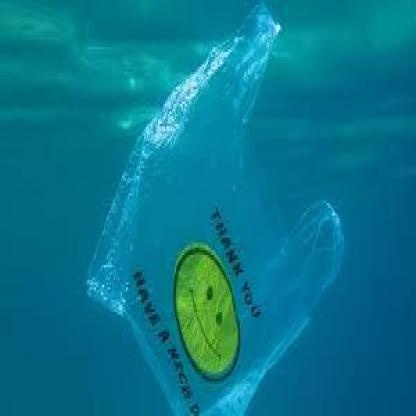pbag: (76, 5, 347, 416)
